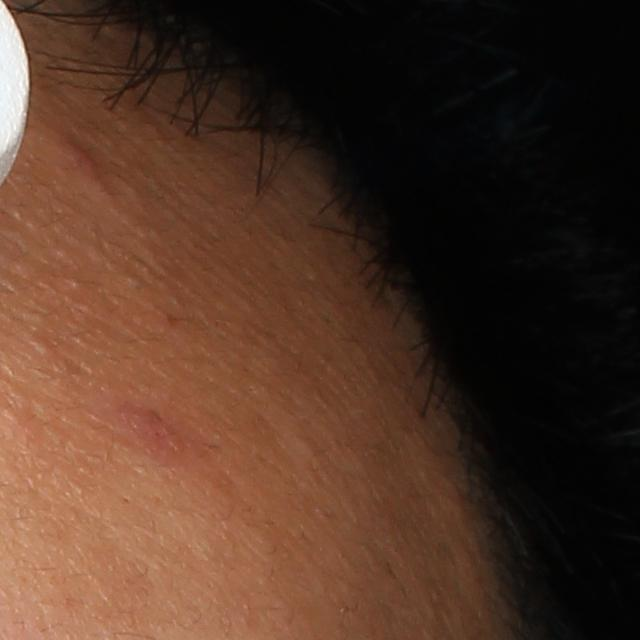comedo: (33, 337, 58, 364)
papule: (48, 135, 100, 180)
